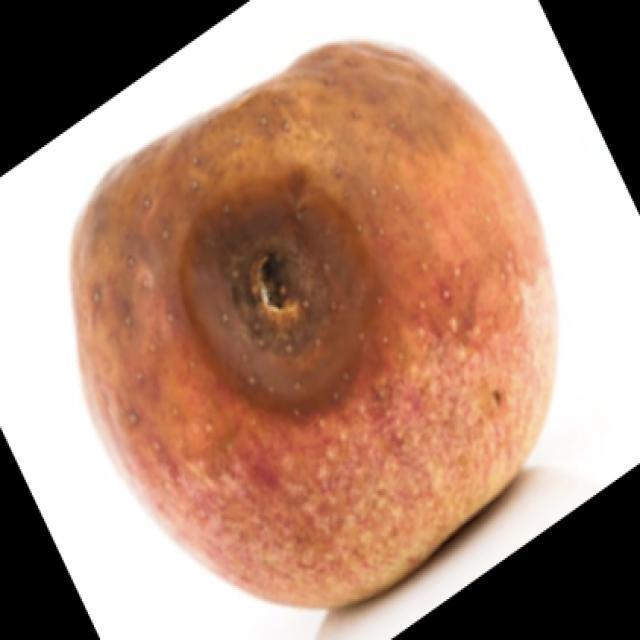Rotten: (55, 40, 552, 622)
